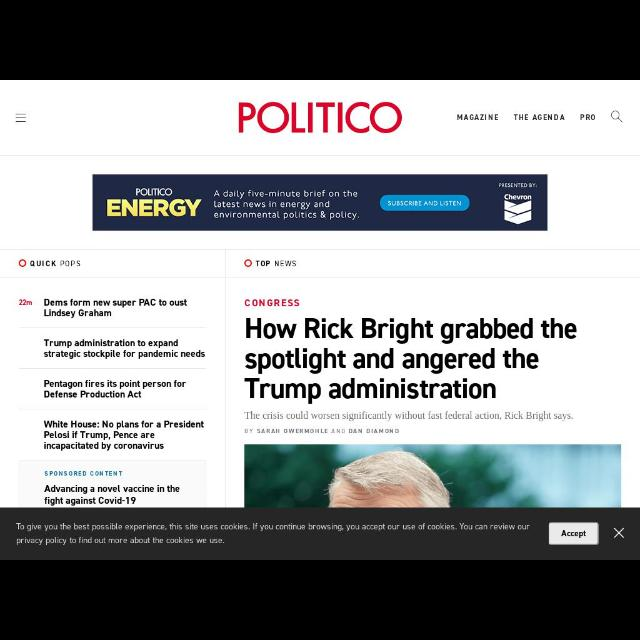icon: (608, 110, 624, 124), (612, 526, 626, 540), (15, 111, 28, 125), (18, 258, 28, 268), (243, 258, 253, 268)
iframe: (93, 173, 547, 230)
image: (238, 102, 402, 140)
text: (245, 316, 577, 400), (16, 521, 528, 545), (44, 418, 204, 448), (243, 411, 574, 424), (45, 337, 207, 361), (44, 298, 188, 318), (44, 380, 186, 400), (45, 485, 181, 505), (244, 428, 401, 436), (42, 469, 124, 477), (244, 298, 298, 308), (255, 259, 297, 269), (31, 260, 81, 268), (454, 114, 500, 122), (514, 115, 564, 122), (562, 530, 588, 538), (580, 114, 596, 120), (20, 300, 32, 306)
textbutton: (548, 524, 598, 544)
toolbar: (1, 82, 639, 156)
